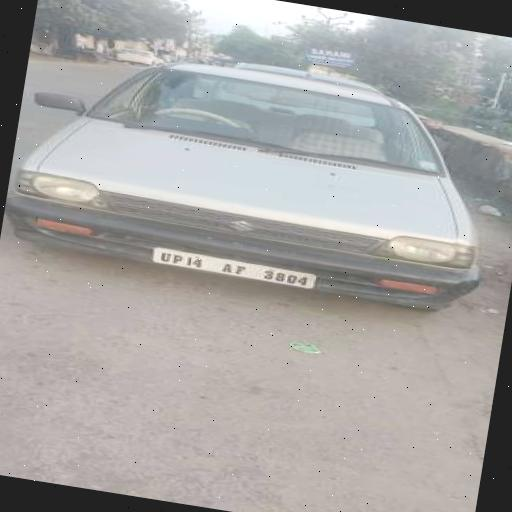license_plate`: (146, 244, 312, 286)
